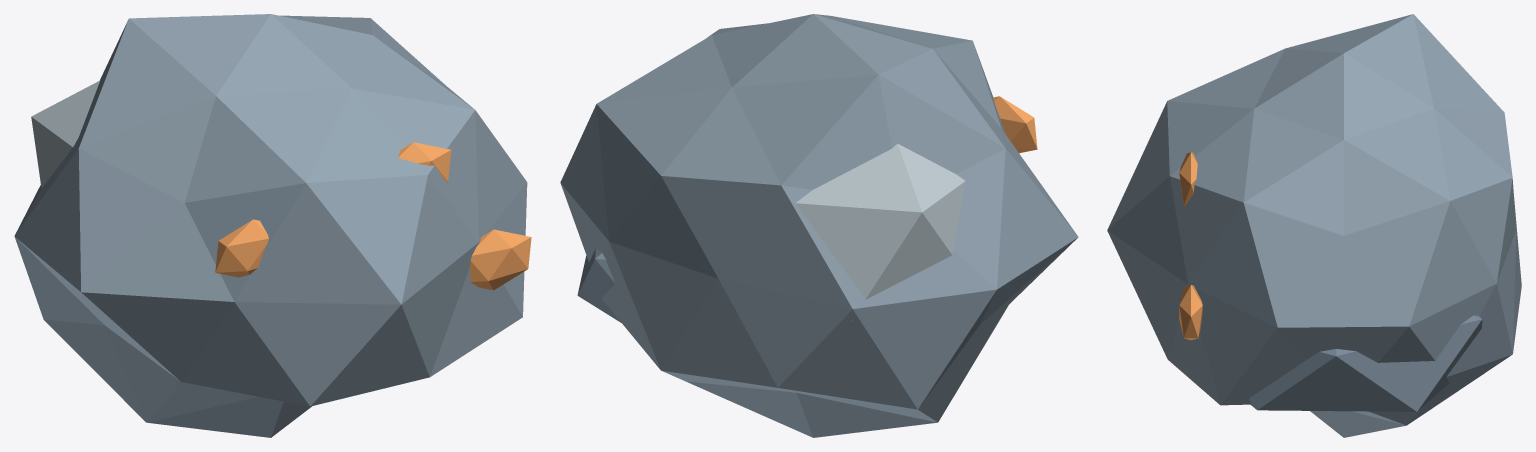
Rendered from Rock_Full.fbx.
3 views of the same model, side by side, from view 1: azimuth 30°, elevation 25°; view 2: azimuth 150°, elevation 25°; view 3: azimuth 270°, elevation 25° (orthographic). The views are drawn at different scales.
Visible parts, largest first — view 1: Main blue slate boulder, Pale rear shoulder, Copper ore fleck 2, Copper ore fleck 0, Copper ore fleck 1; view 2: Main blue slate boulder, Pale rear shoulder, Dark lower lobe, Copper ore fleck 0; view 3: Main blue slate boulder, Dark lower lobe, Copper ore fleck 2, Copper ore fleck 1.
Boxes of the visible parts, x1=… form: Main blue slate boulder: x1=14, y1=14, x2=527, y2=437; Pale rear shoulder: x1=31, y1=80, x2=100, y2=188; Copper ore fleck 2: x1=469, y1=229, x2=531, y2=290; Copper ore fleck 0: x1=215, y1=219, x2=268, y2=277; Copper ore fleck 1: x1=398, y1=142, x2=451, y2=182; Main blue slate boulder: x1=560, y1=14, x2=1078, y2=437; Pale rear shoulder: x1=795, y1=143, x2=965, y2=321; Dark lower lobe: x1=577, y1=248, x2=621, y2=322; Copper ore fleck 0: x1=993, y1=96, x2=1037, y2=153; Main blue slate boulder: x1=1107, y1=14, x2=1521, y2=437; Dark lower lobe: x1=1249, y1=315, x2=1482, y2=411; Copper ore fleck 2: x1=1179, y1=285, x2=1202, y2=339; Copper ore fleck 1: x1=1179, y1=152, x2=1197, y2=205.
Bounding box in the file's own units: 614 × 556 × 543.
